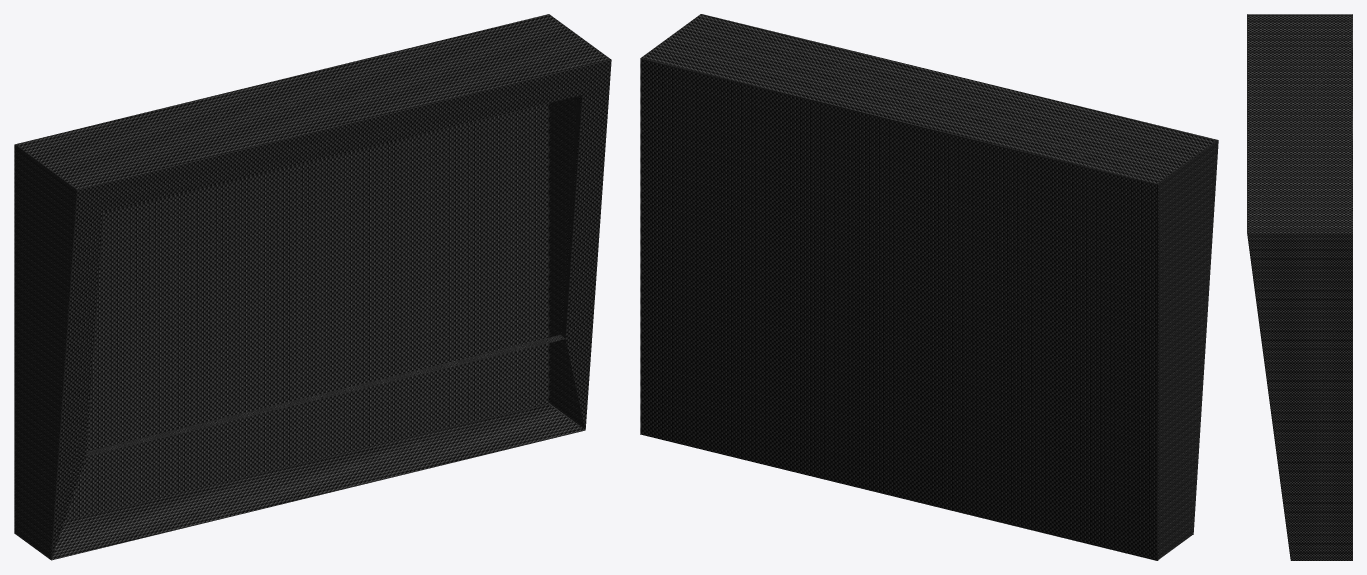
File: Backboard.obj
3 renders of one model, left to right at view 1: azimuth 30°, elevation 25°; view 2: azimuth 150°, elevation 25°; view 3: azimuth 270°, elevation 25°, orthographic. The views are drawn at different scales.
Parts seen in each view (by area): view 1: Backboard; view 2: Backboard; view 3: Backboard.
Part boxes in pixels (left/top/right/bottom): Backboard: left=14, top=14, right=611, bottom=560; Backboard: left=640, top=14, right=1218, bottom=560; Backboard: left=1247, top=14, right=1352, bottom=560.
Bounding box in the file's own units: 244 × 170 × 49.64.
Materials: 1 (1 with a texture image).
